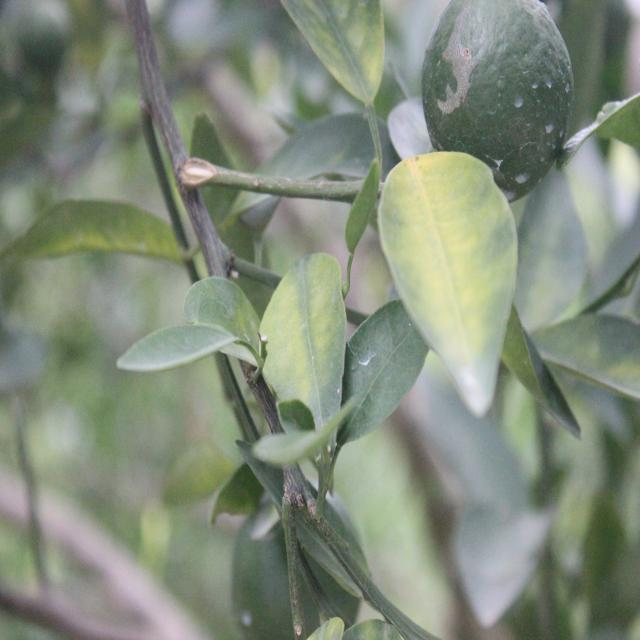greening: (392, 154, 506, 368), (263, 254, 340, 395), (284, 0, 388, 97)
